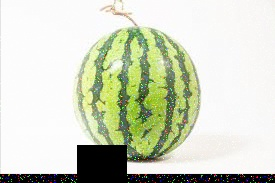watermelon: (70, 24, 201, 160)
